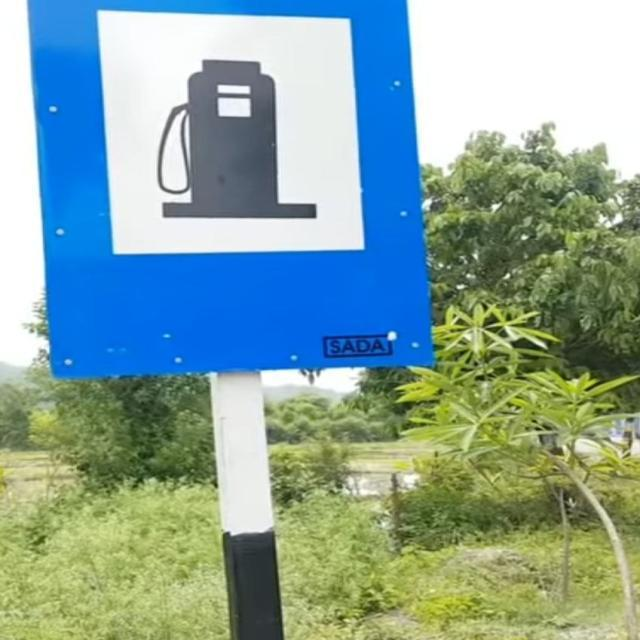petrol pump ahead: (99, 11, 365, 259)
